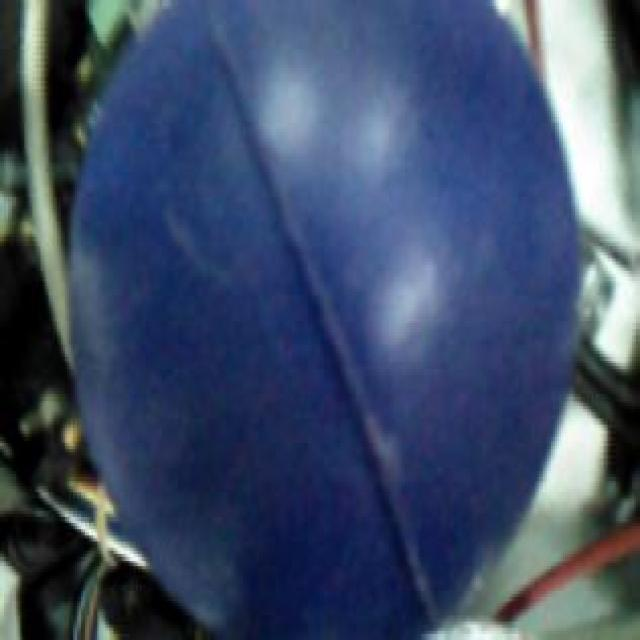BallPurple: (67, 0, 579, 640)
